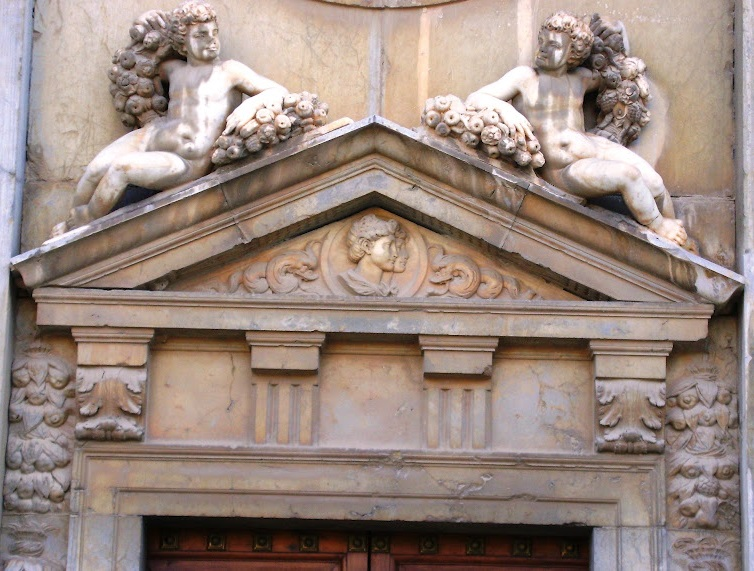fronton: (1, 106, 751, 358)
